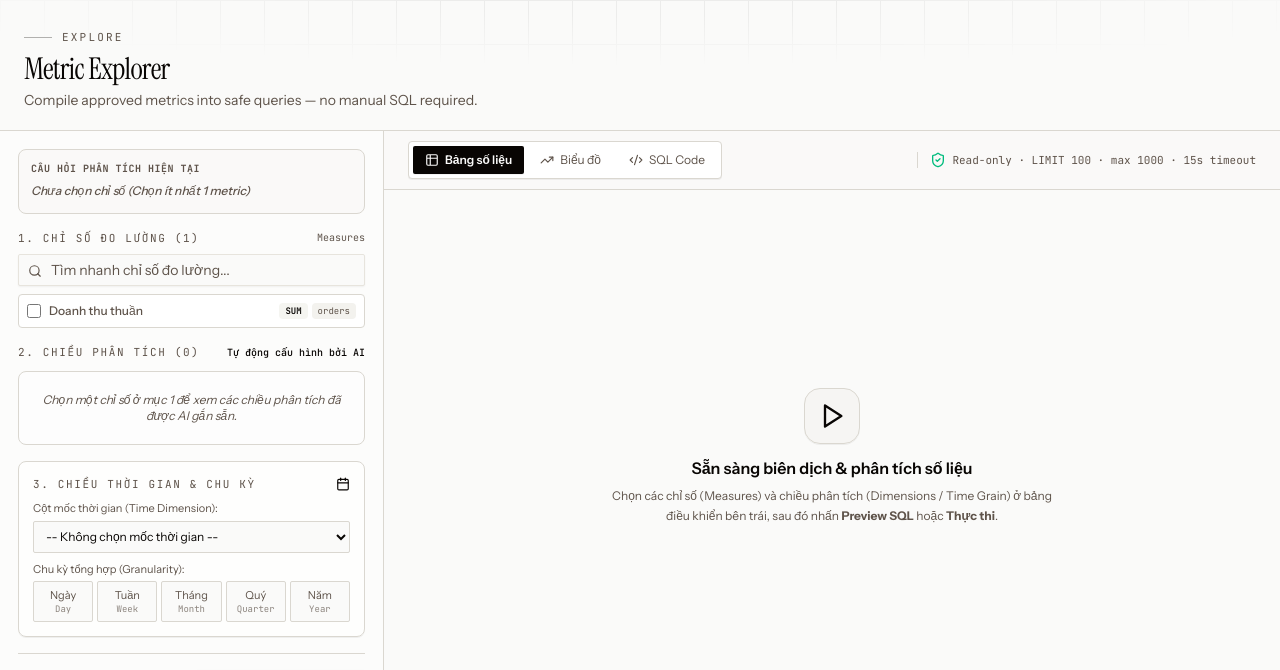
it: MetricExplorerView › maps foreign key dimension (store_id) to entity descriptive dimension (store.name)
The width and height of the screenshot is (1280, 670).
Click the checkbox labelled "Doanh thu thuần SUM orders": (34, 311) left=27, top=304, right=41, bottom=318
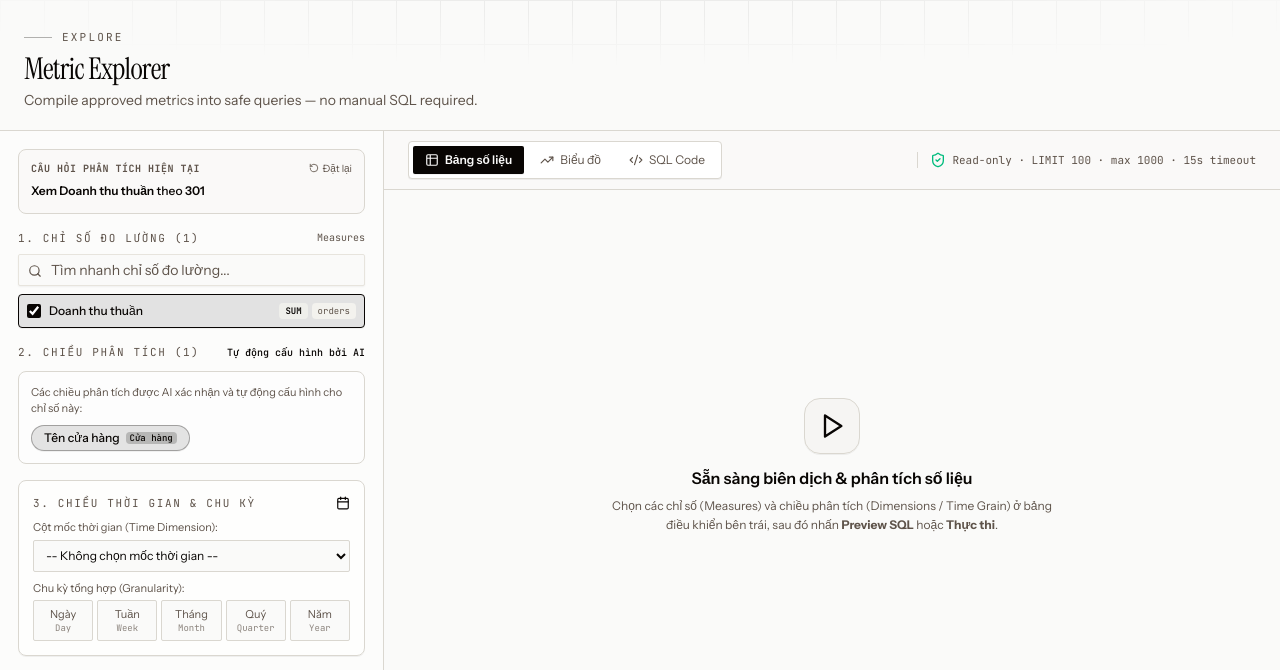
expect the text "Tên cửa hàng" is shown: met, box left=44, top=430, right=120, bottom=446
